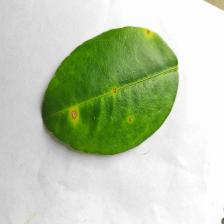canker: (63, 55, 138, 139)
